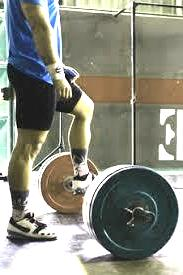Barbell: (139, 206, 157, 228)
